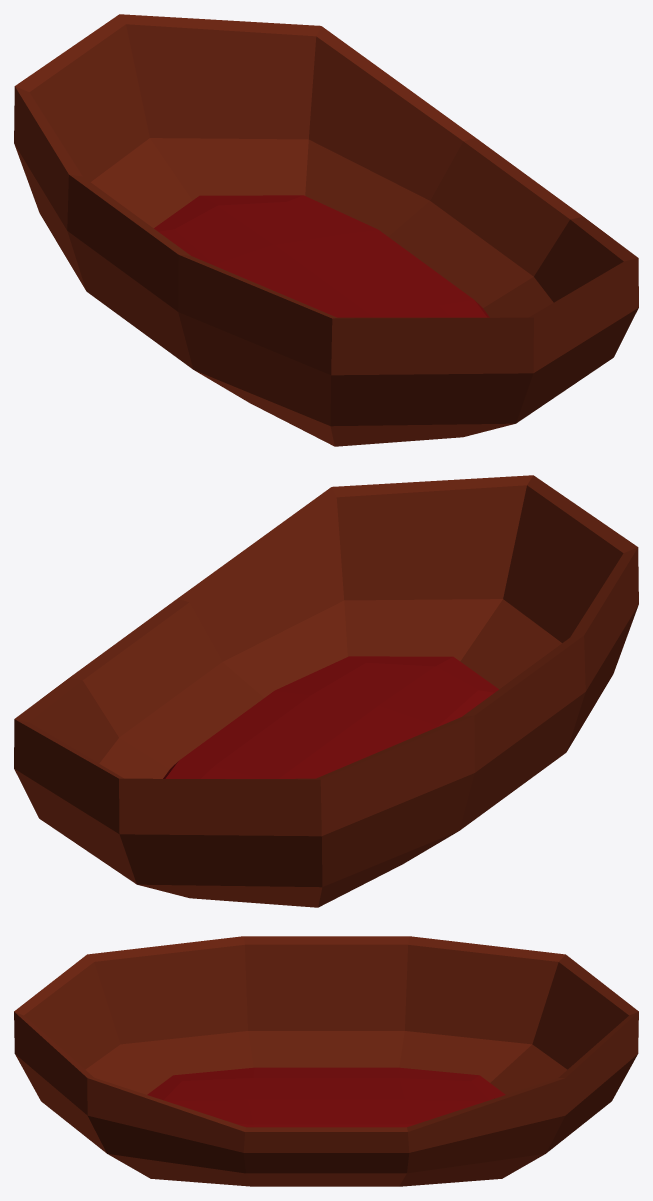
The model's file is CestaPerro.FBX.
3 views of the same model, one above another, from view 1: azimuth 30°, elevation 25°; view 2: azimuth 150°, elevation 25°; view 3: azimuth 270°, elevation 25° (orthographic). The views are drawn at different scales.
Visible parts, largest first — view 1: cesta, cojin; view 2: cesta, cojin; view 3: cesta, cojin.
Boxes of the visible parts, x1,y1,x2,y2 form: cesta: (14, 14, 638, 446); cojin: (154, 195, 489, 317); cesta: (14, 475, 638, 907); cojin: (163, 656, 498, 778); cesta: (14, 936, 638, 1186); cojin: (147, 1067, 505, 1127).
Size of the model in its own units: 21.33 by 9.01 by 37.63.
